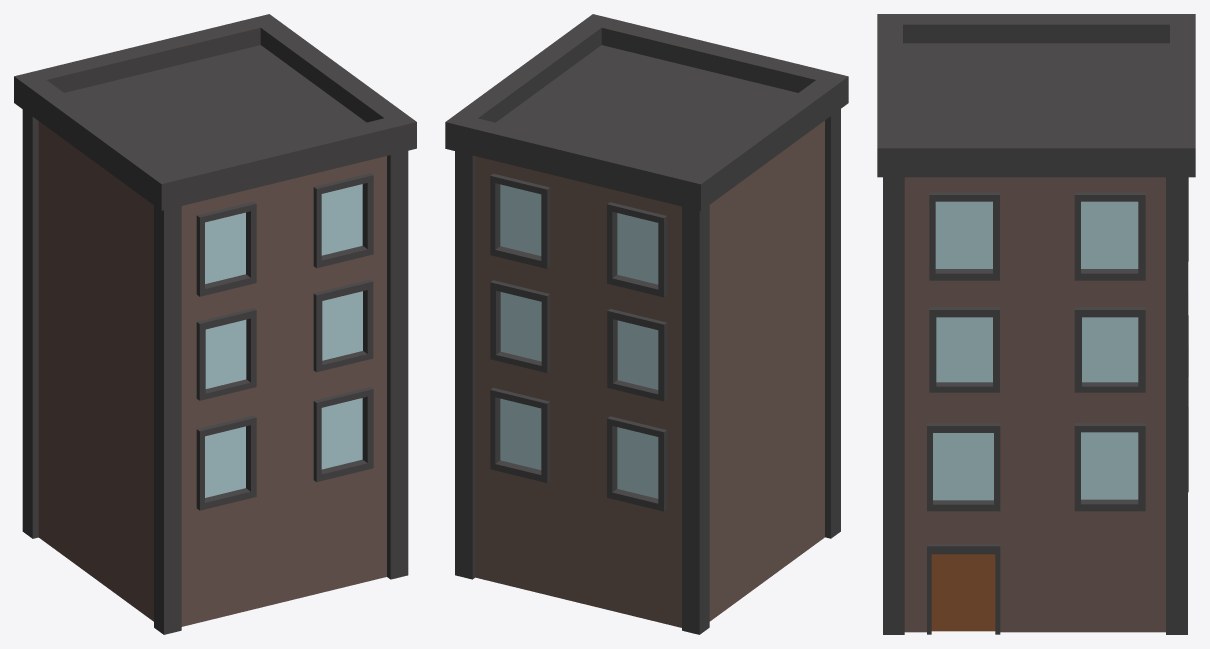
The model's file is house_tall001.fbx.
3 renders of one model, left to right at view 1: azimuth 30°, elevation 25°; view 2: azimuth 150°, elevation 25°; view 3: azimuth 270°, elevation 25°, orthographic. The views are drawn at different scales.
Visible parts, largest first — view 1: Plane.009; view 2: Plane.009; view 3: Plane.009.
Boxes of the visible parts, x1=… form: Plane.009: x1=14, y1=14, x2=416, y2=634; Plane.009: x1=445, y1=14, x2=848, y2=634; Plane.009: x1=877, y1=14, x2=1195, y2=634.
Bounding box in the file's own units: 875 × 1485 × 875.
